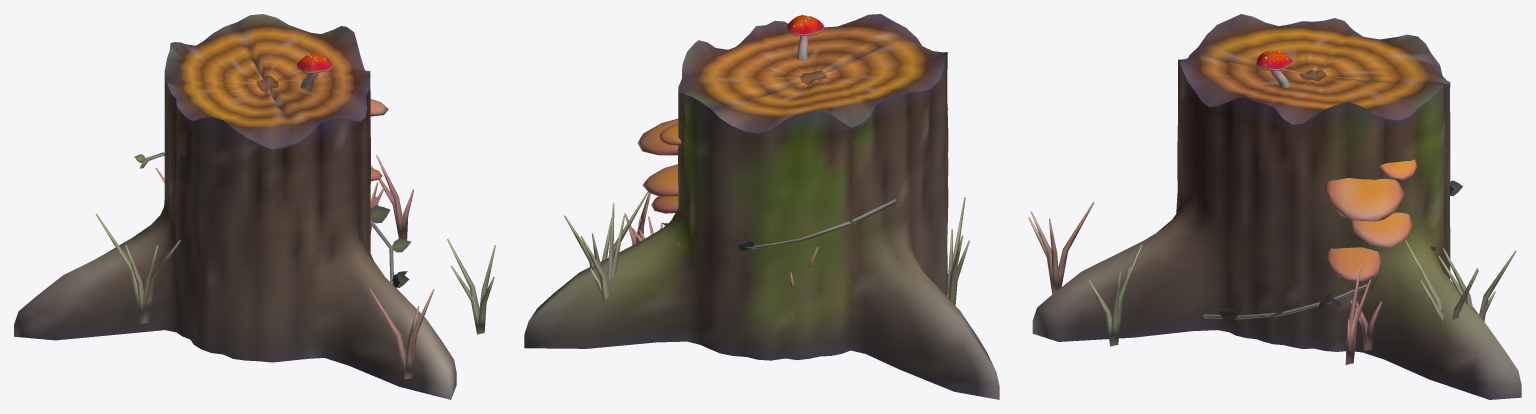
The model's file is kutuk.glb.
3 renders of one model, left to right at view 1: azimuth 30°, elevation 25°; view 2: azimuth 150°, elevation 25°; view 3: azimuth 270°, elevation 25°, orthographic. The views are drawn at different scales.
Parts seen in each view (by area): view 1: kutuk_LOD0; view 2: kutuk_LOD0; view 3: kutuk_LOD0.
Boxes of the visible parts, bbox=[...] form: kutuk_LOD0: bbox=[14, 14, 495, 399]; kutuk_LOD0: bbox=[524, 14, 999, 399]; kutuk_LOD0: bbox=[1028, 14, 1521, 399].
Size of what is drawn, in the model's own units: 1.6 by 1.02 by 1.68.
